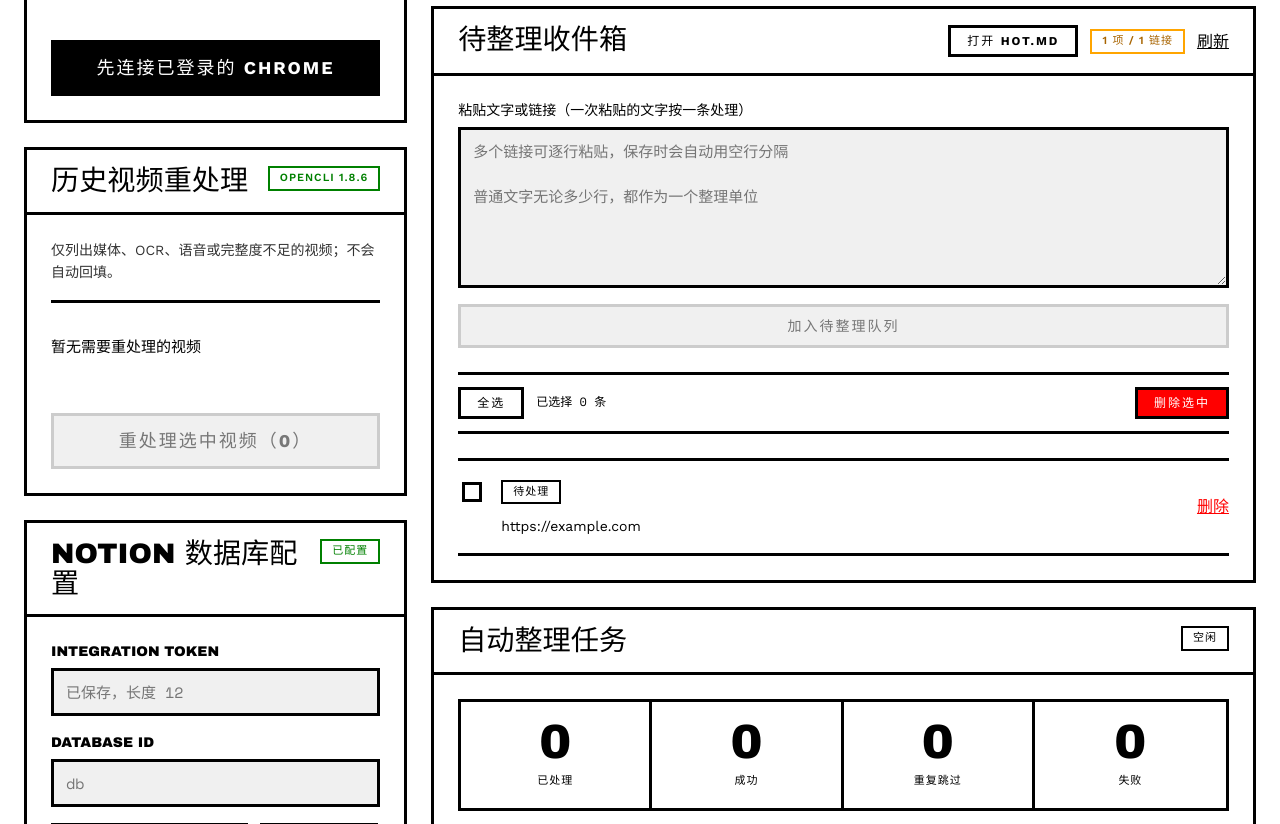
Scenario: Knowledge Console › selects all inbox items and deletes them in one request
(page scrolled)
Click the button "全选" at (491,403), box [458, 387, 524, 419]
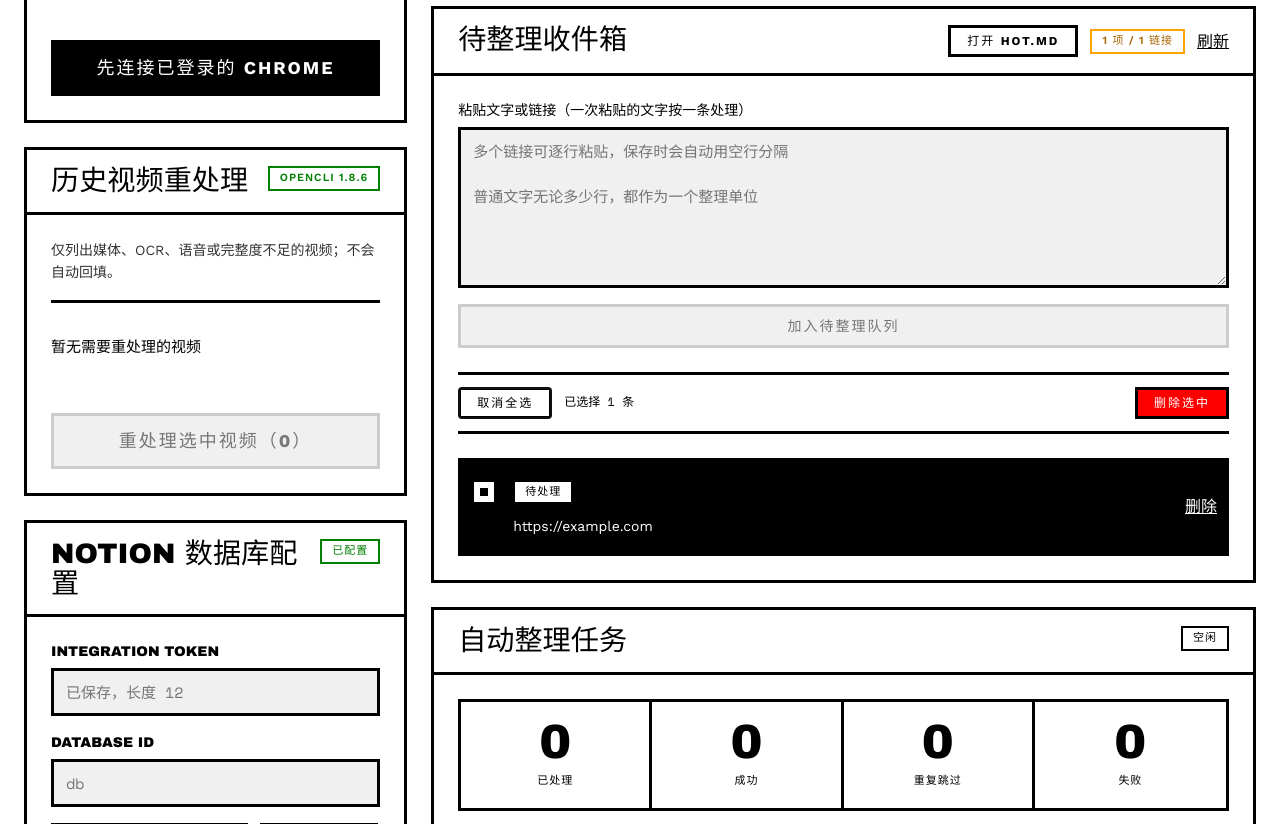
Result: the text "已选择 1 条" is shown at [564, 394, 634, 411]
Result: the checkbox is checked at [474, 482, 494, 502]
Click the button "删除选中" at (1182,403), box [1135, 387, 1229, 419]
(page scrolled)
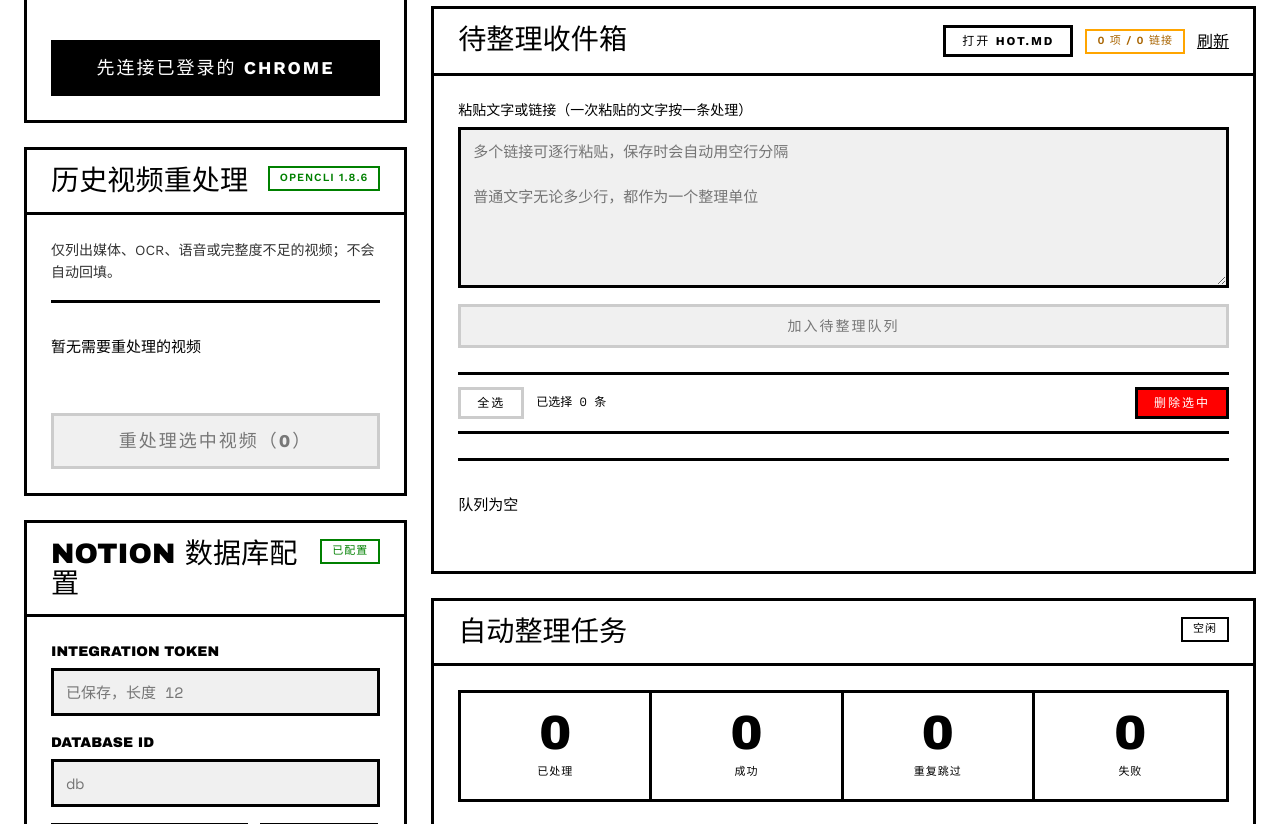
Result: the text "队列为空" is shown at [458, 493, 518, 515]
